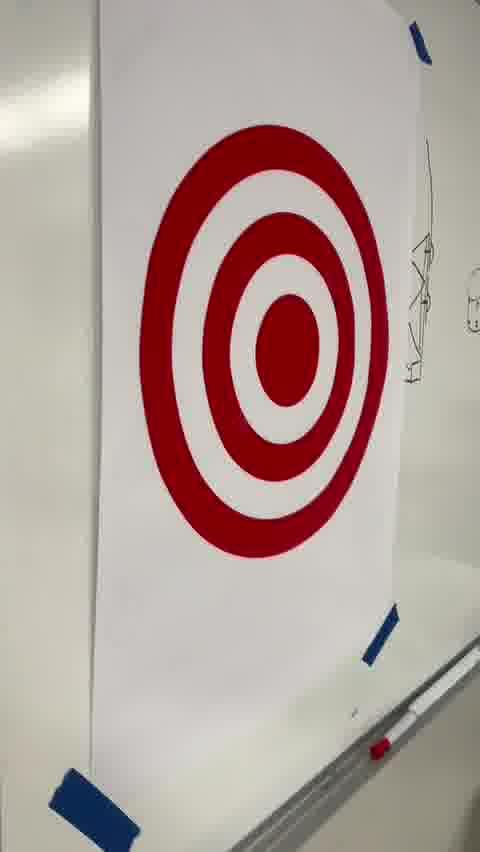target_red: (138, 124, 388, 559)
